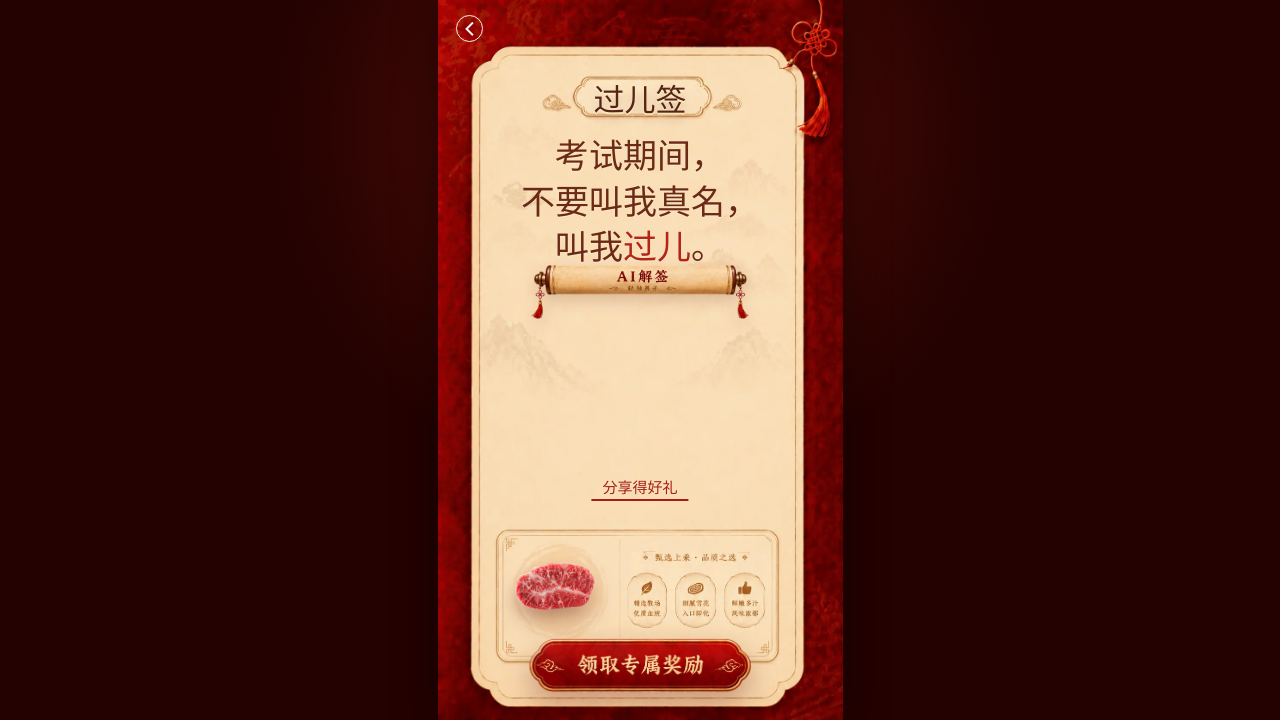
Scenario: P1 activity home › does not use the 502 issue fallback for non-issuing errors
Click the button with test id "p2-claim-benefit" at (640, 665), box [527,636,753,695]
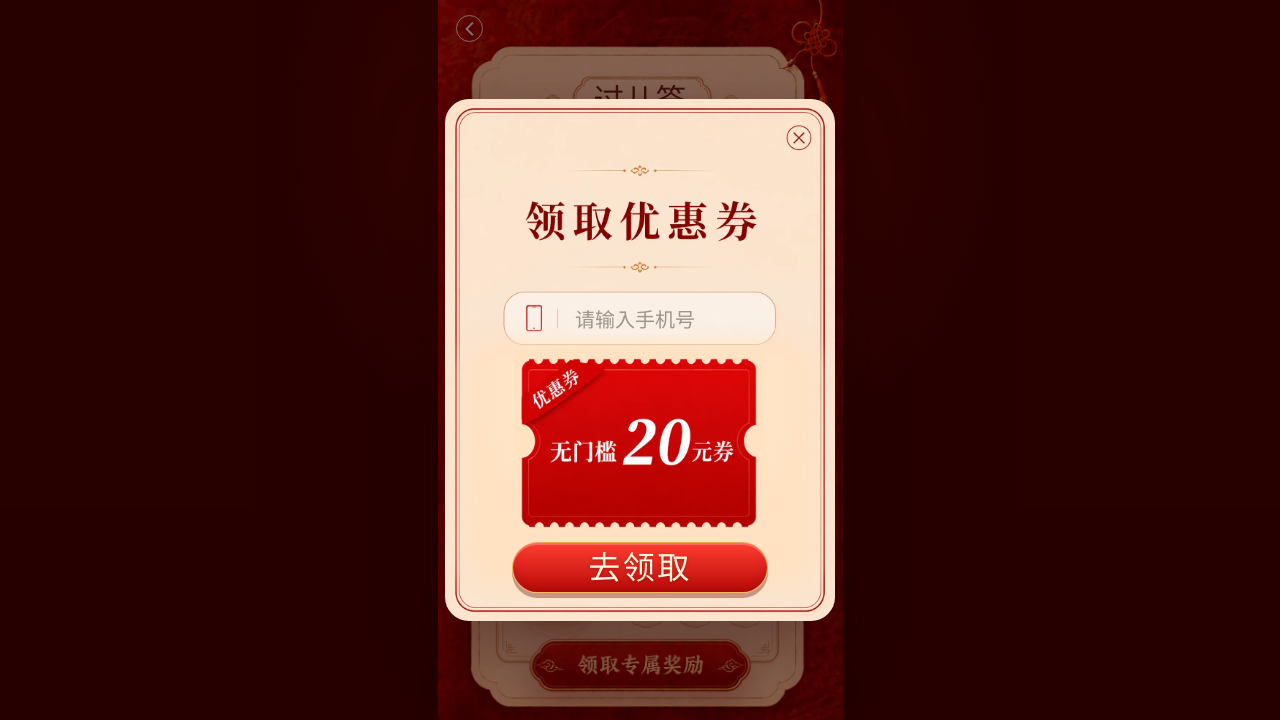
Type "13800138000" into the field with test id "p5-mobile-input" at (673, 321), box [569,305,777,336]
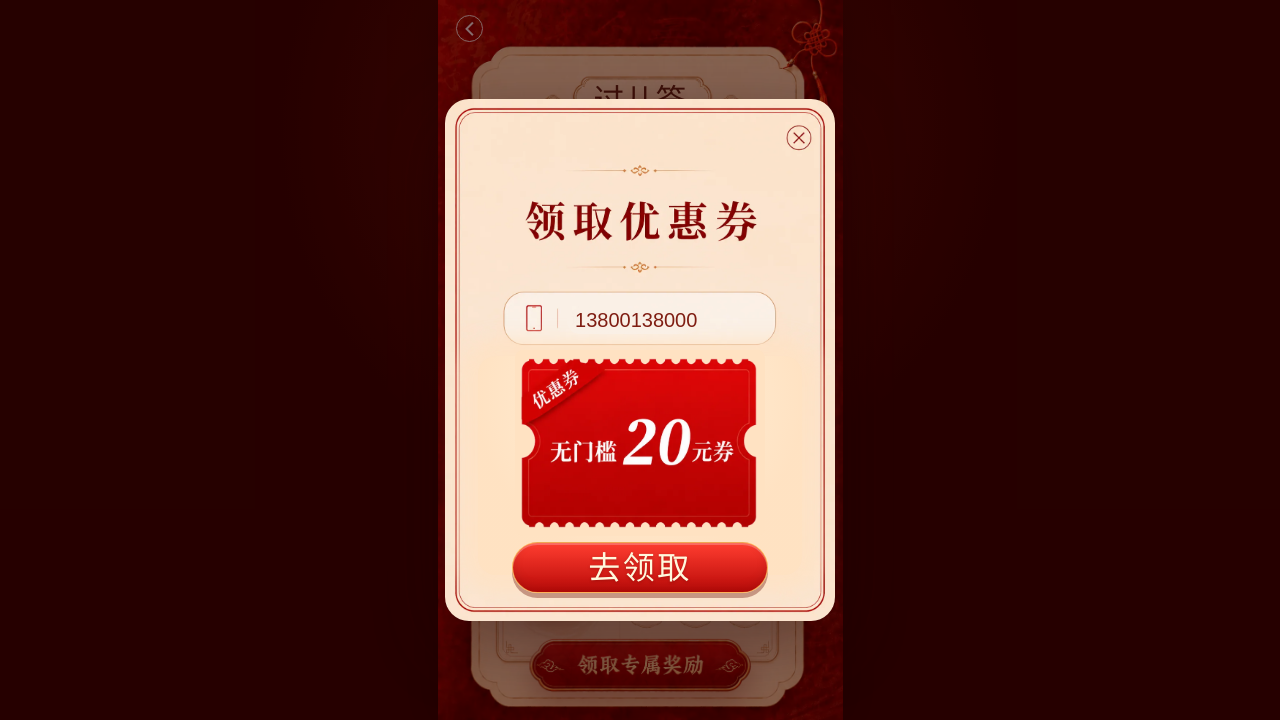
Submit the form from the button with test id "p5-submit-claim", box [512,542,768,593]
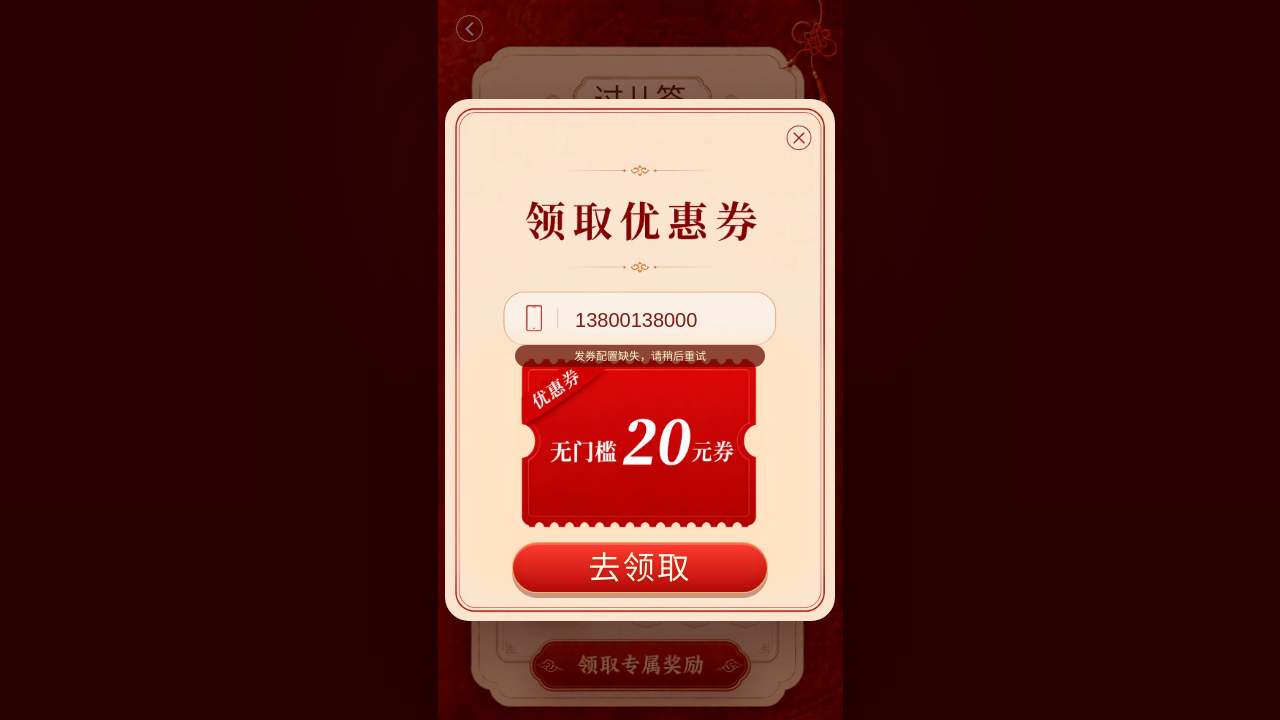
Result: the dialog with test id "p5-mobile-claim-popup" is shown at [445,99,835,622]
Result: the text "发券配置缺失，请稍后重试" is shown at [515,345,765,367]
